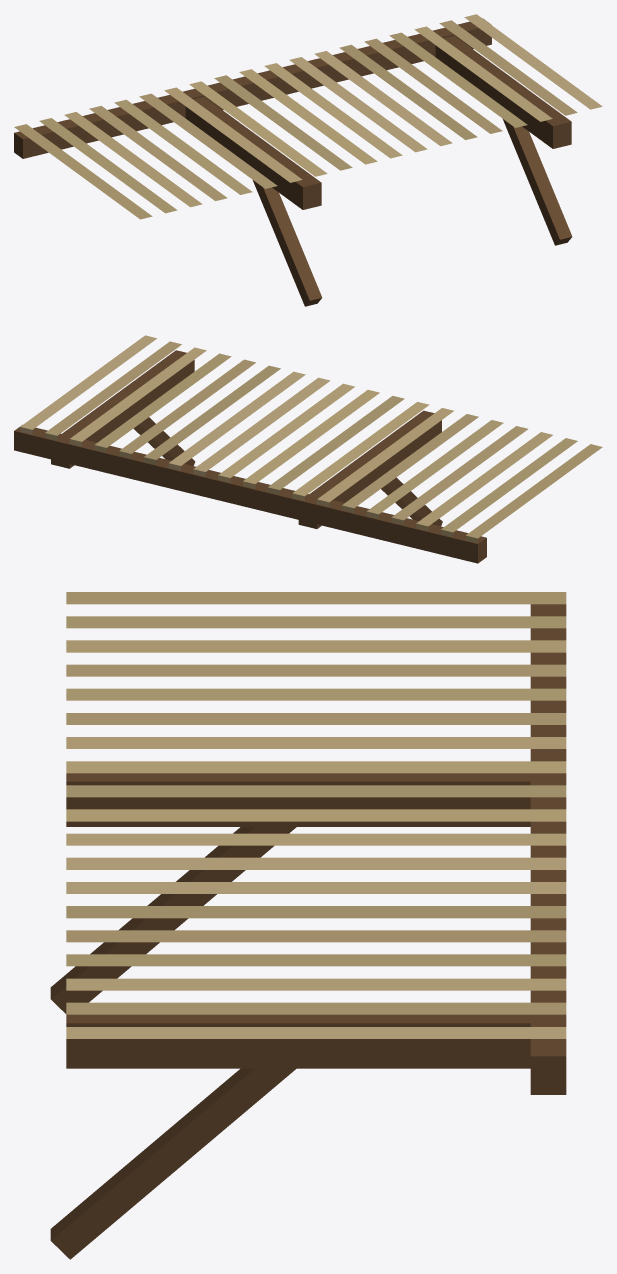
The model's file is awning_reed.glb.
3 renders of one model, top to bottom at view 1: azimuth 30°, elevation 25°; view 2: azimuth 150°, elevation 25°; view 3: azimuth 270°, elevation 25°, orthographic. The views are drawn at different scales.
Parts seen in each view (by area): view 1: awning_reed; view 2: awning_reed; view 3: awning_reed.
Boxes of the visible parts, left/top/right/bottom form: awning_reed: left=14, top=14, right=602, bottom=306; awning_reed: left=14, top=335, right=602, bottom=563; awning_reed: left=50, top=592, right=566, bottom=1259.
Bounding box in the file's own units: 3 × 0.7851 × 1.44.
